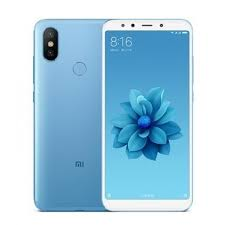mi: (100, 19, 195, 215), (28, 16, 106, 212)
